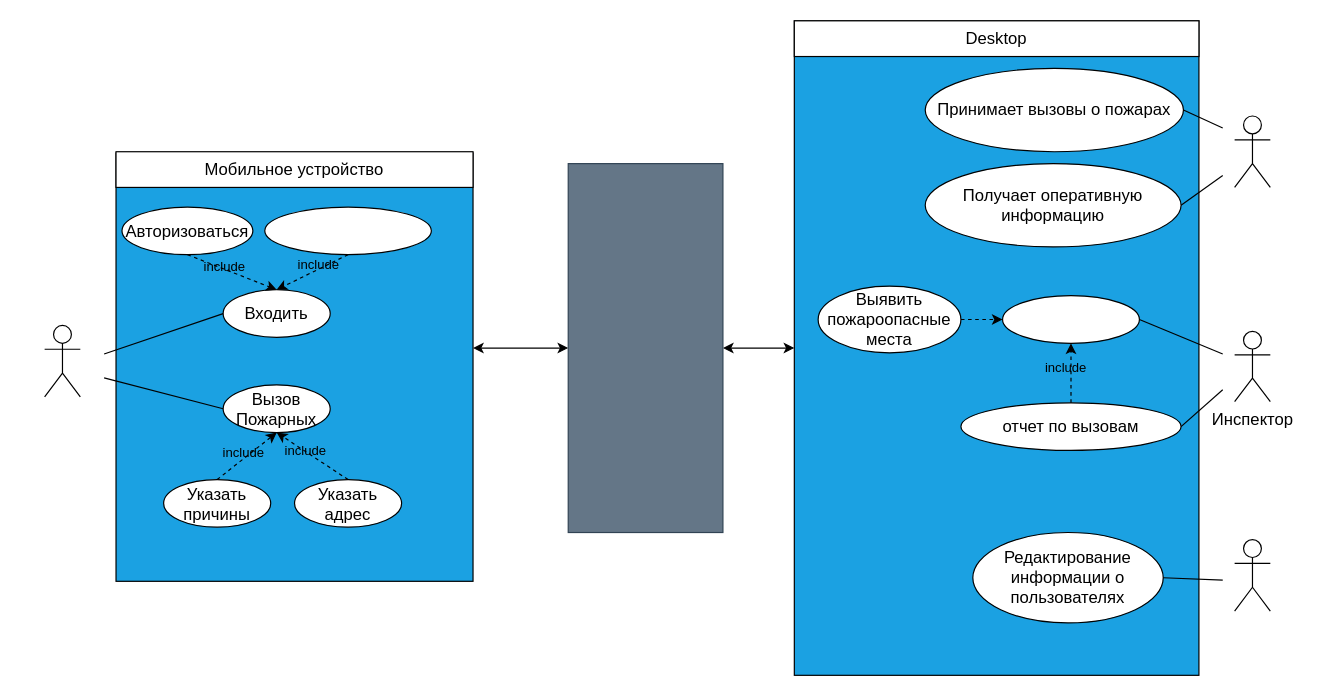
Image size: 1333x696. Some labels were removed from this diagram. The centre of each missing label's shape, as x and y in pixels:
Администратор: (x=1251, y=574)
Анализирует статистику: (x=1070, y=319)
Гражданин: (x=61, y=360)
Зарегестрироваться: (x=347, y=230)
Оператор: (x=1251, y=151)
Сервер: (x=645, y=347)
